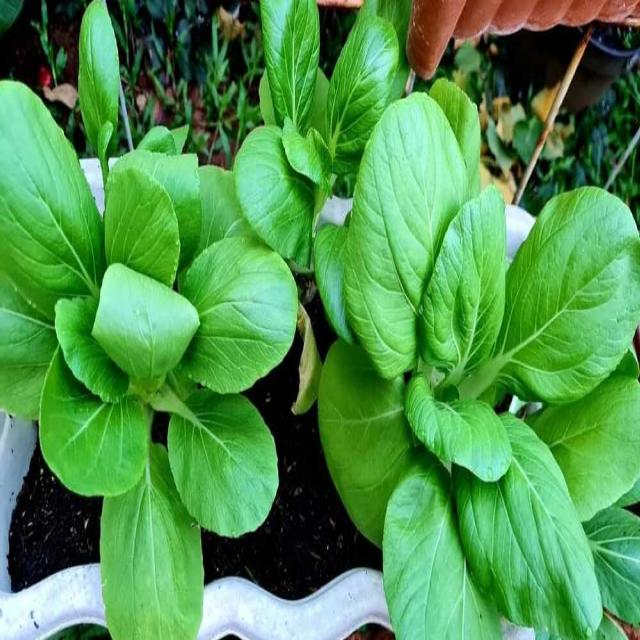pakcoy_sehat: (337, 118, 624, 640)
